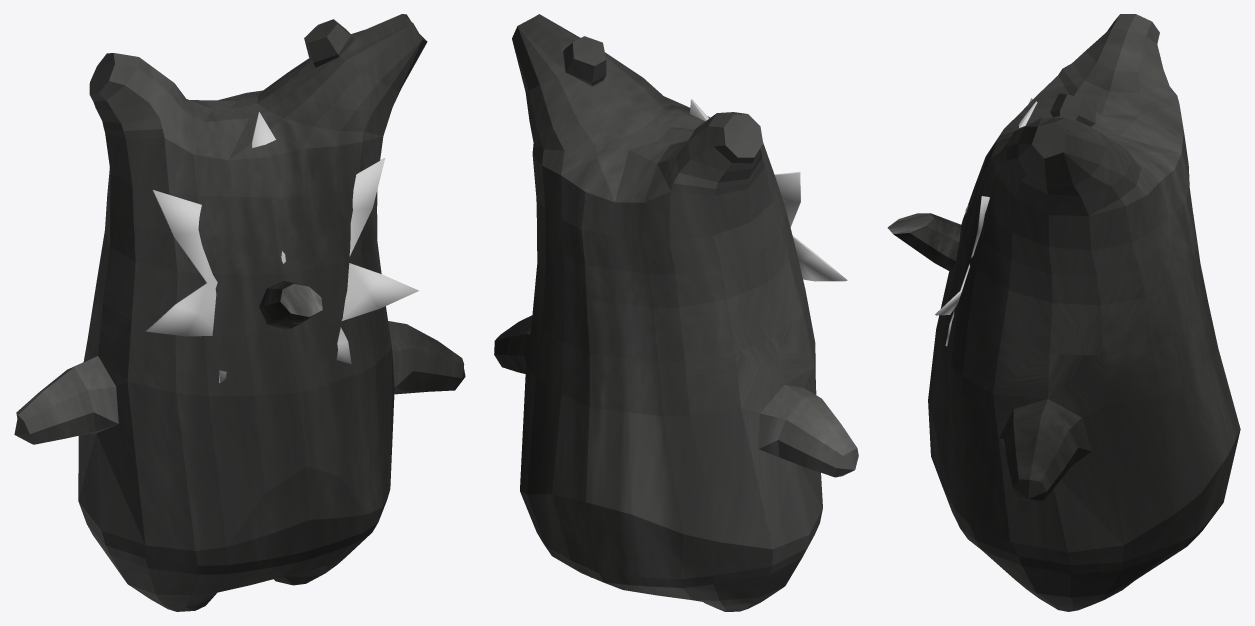
Rendered from frame_0107.obj.
3 views of the same model, side by side, from view 1: azimuth 30°, elevation 25°; view 2: azimuth 150°, elevation 25°; view 3: azimuth 270°, elevation 25° (orthographic). The views are drawn at different scales.
Parts seen in each view (by area): view 1: korok, leaf.003_柱体.013, nose.003_柱体.011; view 2: korok, leaf.003_柱体.013; view 3: korok, nose.003_柱体.011, leaf.003_柱体.013.
Boxes of the visible parts, x1=… form: korok: x1=14, y1=14, x2=465, y2=611; leaf.003_柱体.013: x1=146, y1=112, x2=418, y2=382; nose.003_柱体.011: x1=259, y1=281, x2=322, y2=329; korok: x1=494, y1=14, x2=858, y2=611; leaf.003_柱体.013: x1=690, y1=99, x2=847, y2=281; korok: x1=928, y1=14, x2=1240, y2=611; nose.003_柱体.011: x1=887, y1=213, x2=961, y2=272; leaf.003_柱体.013: x1=935, y1=98, x2=1037, y2=346.
Bounding box in the file's own units: 1.7 × 2.19 × 1.31.
